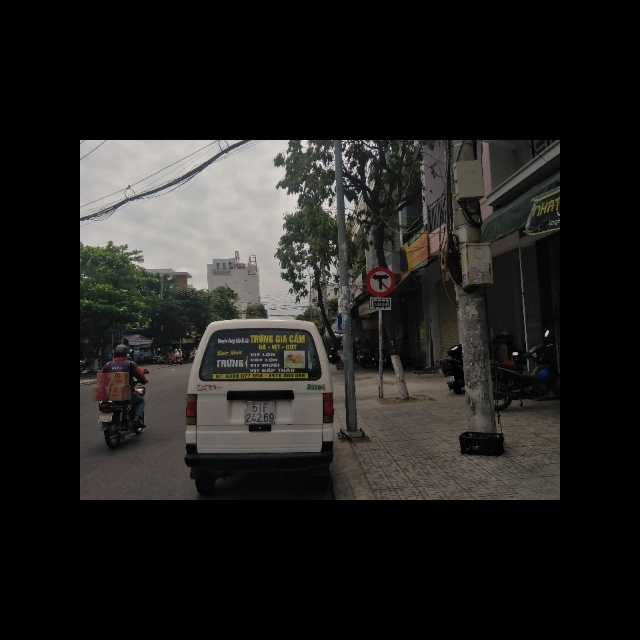Cấm rẽ trái và rẽ phải: (366, 267, 395, 296)
